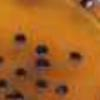black: (68, 49, 84, 63), (3, 89, 23, 100), (54, 82, 68, 97), (34, 42, 48, 56), (34, 79, 49, 91), (34, 59, 50, 70), (80, 0, 96, 11), (14, 32, 26, 45), (14, 67, 26, 80), (0, 75, 8, 89), (0, 54, 5, 68)
